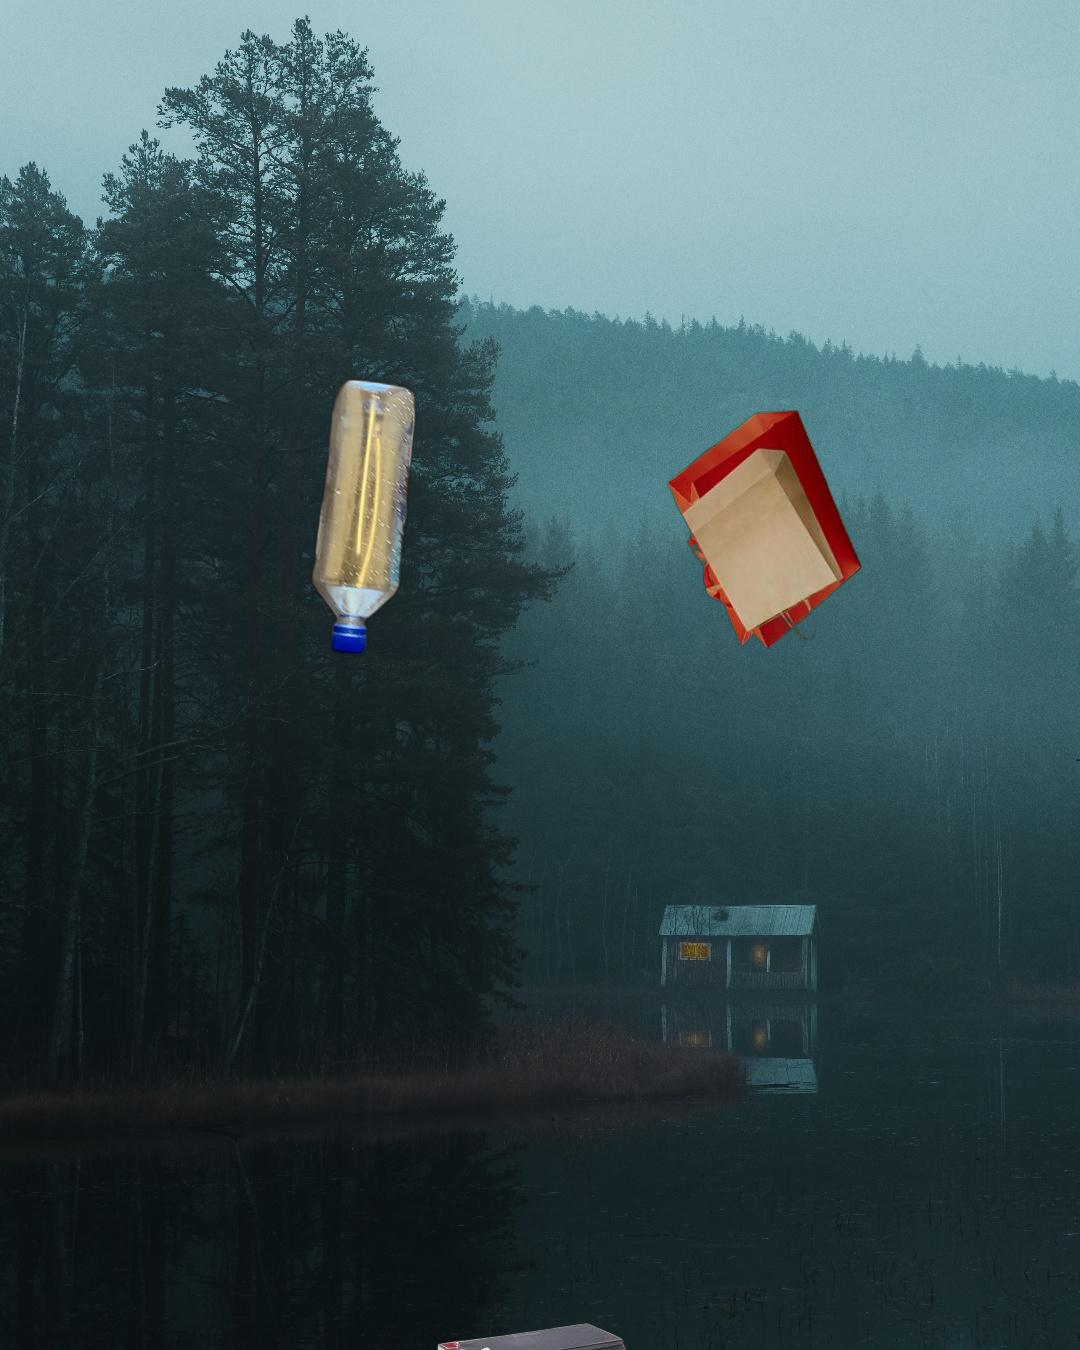battery: (435, 1320, 629, 1350)
paper-bag: (665, 408, 864, 651)
plastic-bottles: (300, 372, 420, 660)
trashbox-cardboard: (950, 649, 1080, 1350)
